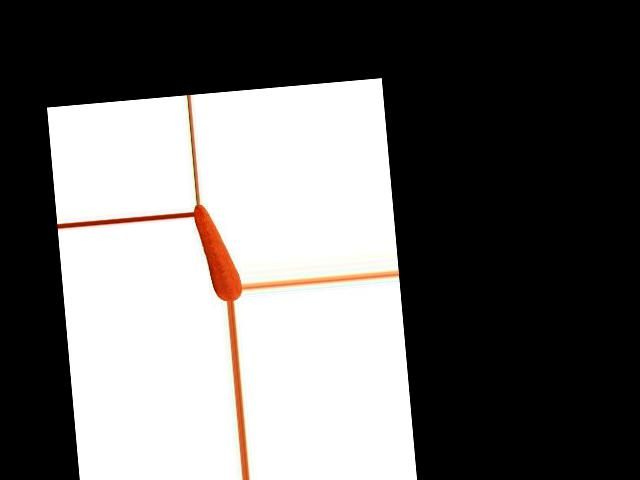carrot: (193, 201, 242, 303)
